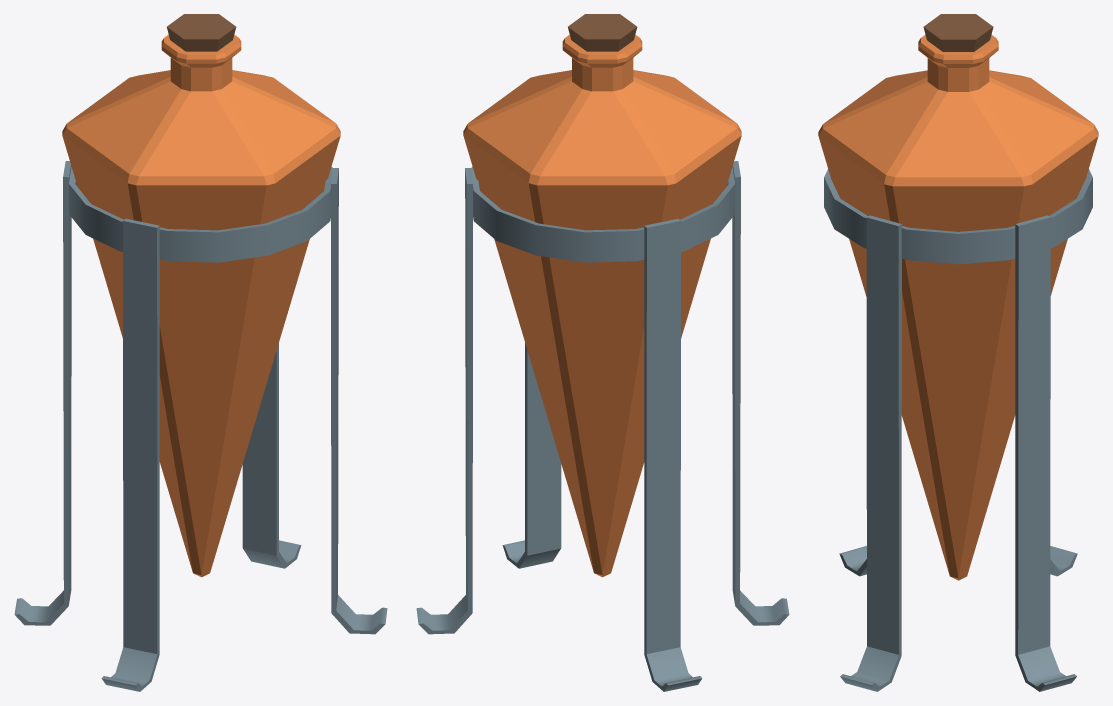
Rendered from Potion_05_Orange.fbx.
3 views of the same model, side by side, from view 1: azimuth 30°, elevation 25°; view 2: azimuth 150°, elevation 25°; view 3: azimuth 270°, elevation 25° (orthographic).
Visible parts, largest first — view 1: Cone.007, Cube.013, Cylinder.018, Cube.014, Cube.015, Cube.012, Cylinder.019, Cylinder.020; view 2: Cone.007, Cube.015, Cylinder.018, Cube.012, Cube.013, Cube.014, Cylinder.019, Cylinder.020; view 3: Cone.007, Cube.014, Cube.012, Cylinder.018, Cylinder.019, Cylinder.020, Cube.015, Cube.013.
Boxes of the visible parts, left/top/right/bottom form: Cone.007: left=62, top=70, right=340, bottom=577; Cube.013: left=101, top=218, right=159, bottom=691; Cylinder.018: left=69, top=166, right=332, bottom=262; Cube.014: left=242, top=343, right=301, bottom=568; Cube.015: left=14, top=161, right=71, bottom=625; Cube.012: left=331, top=168, right=387, bottom=634; Cylinder.019: left=161, top=34, right=241, bottom=91; Cylinder.020: left=167, top=14, right=236, bottom=51; Cone.007: left=463, top=70, right=741, bottom=577; Cube.015: left=644, top=218, right=702, bottom=691; Cylinder.018: left=471, top=166, right=735, bottom=262; Cube.012: left=502, top=343, right=561, bottom=568; Cube.013: left=732, top=161, right=789, bottom=625; Cube.014: left=416, top=168, right=472, bottom=634; Cylinder.019: left=562, top=34, right=642, bottom=91; Cylinder.020: left=568, top=14, right=637, bottom=51; Cone.007: left=818, top=70, right=1098, bottom=580; Cube.014: left=1015, top=215, right=1076, bottom=691; Cube.012: left=840, top=215, right=901, bottom=691; Cylinder.018: left=824, top=169, right=1092, bottom=264; Cylinder.019: left=918, top=34, right=998, bottom=91; Cylinder.020: left=923, top=14, right=993, bottom=51; Cube.015: left=1050, top=546, right=1077, bottom=576; Cube.013: left=839, top=546, right=866, bottom=576.
Size of the model in its own units: 19.94 by 39.59 by 16.79.
